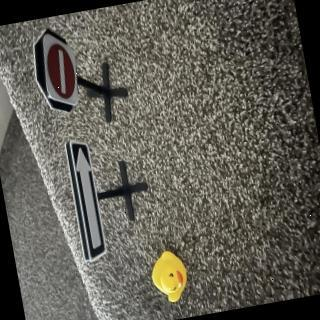duck_regular: (148, 248, 197, 308)
sign_noentry: (37, 30, 88, 114)
sign_oneway_right: (67, 137, 112, 266)
